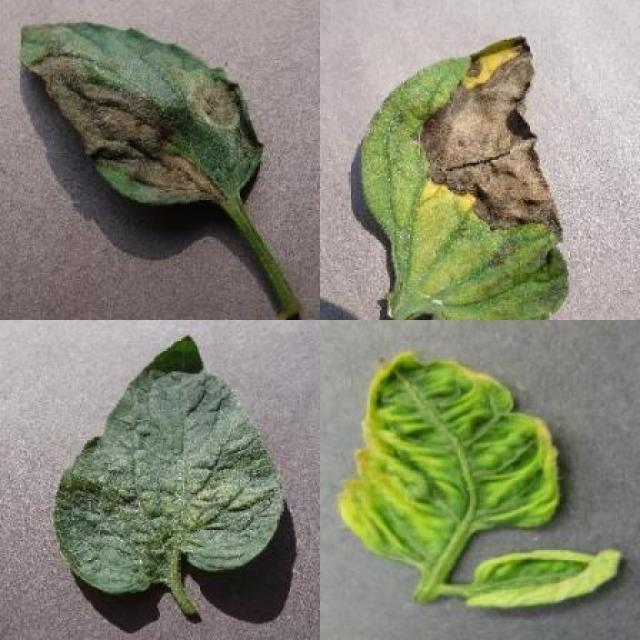Late Blight: (360, 34, 570, 320), (20, 18, 266, 208)
Spider Mites: (53, 334, 286, 594)
Yellow Leaf Curl Virus: (341, 347, 558, 567), (465, 548, 626, 612)
